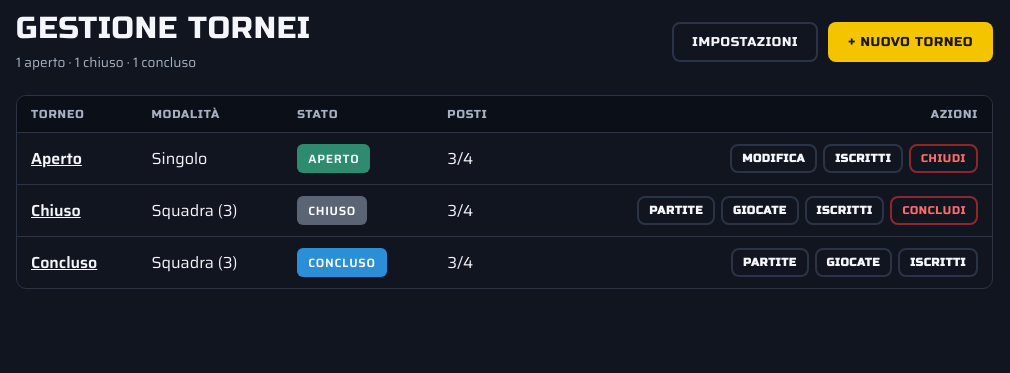
it: GestioneTorneiComponent › mostra l'errore del backend
The image size is (1010, 373).
Step 1. Click the button "Concludi" → coordinates (934, 210), box top-left (890, 196), bottom-right (978, 225)
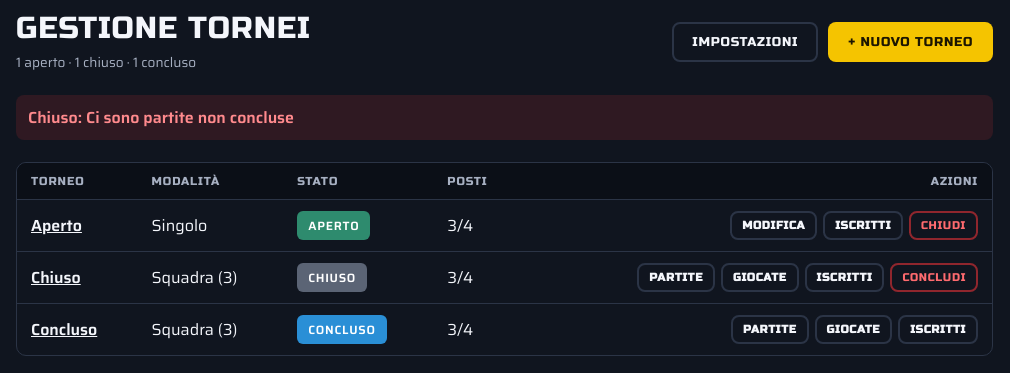
Check: the text "Chiuso: Ci sono partite non concluse" is shown, box top-left (16, 95), bottom-right (993, 140)
